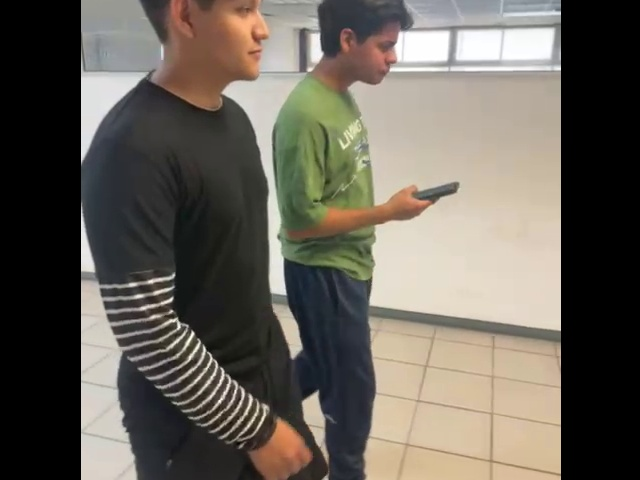mixto2: (408, 171, 463, 203)
